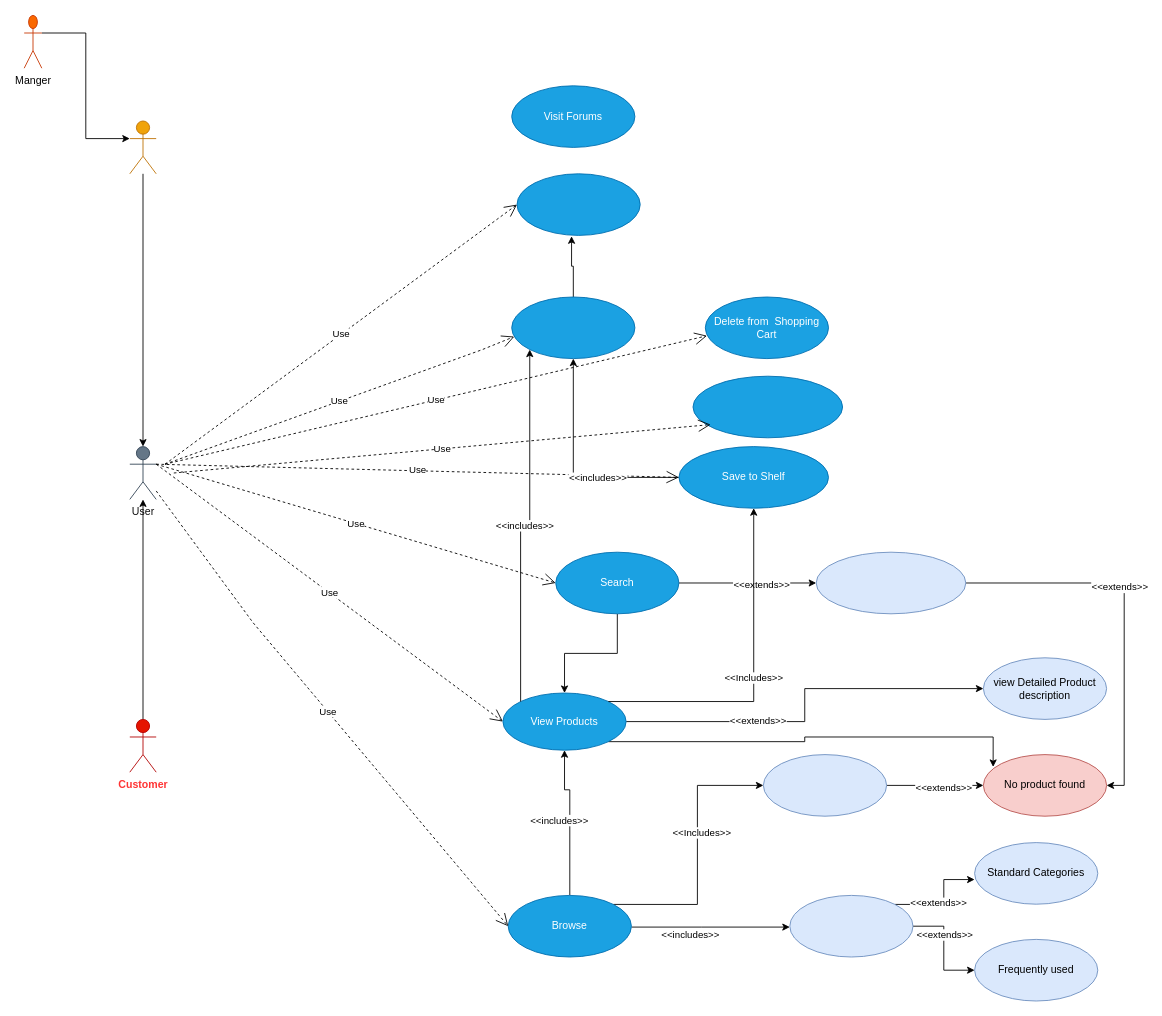
Image size: 1162x1016. Some labels were removed from this diagram. Here are the shapes that lost their labels. From the top down, the box of each, then its label:
(129, 120, 156, 174): Administrator
(516, 173, 640, 235): Place an Order
(511, 296, 635, 359): Add to Shopping Cart
(692, 375, 843, 438): Delete from Shelf
(815, 551, 966, 614): Advanced Search
(763, 754, 887, 816): Similar Products
(789, 895, 913, 957): by Categories
